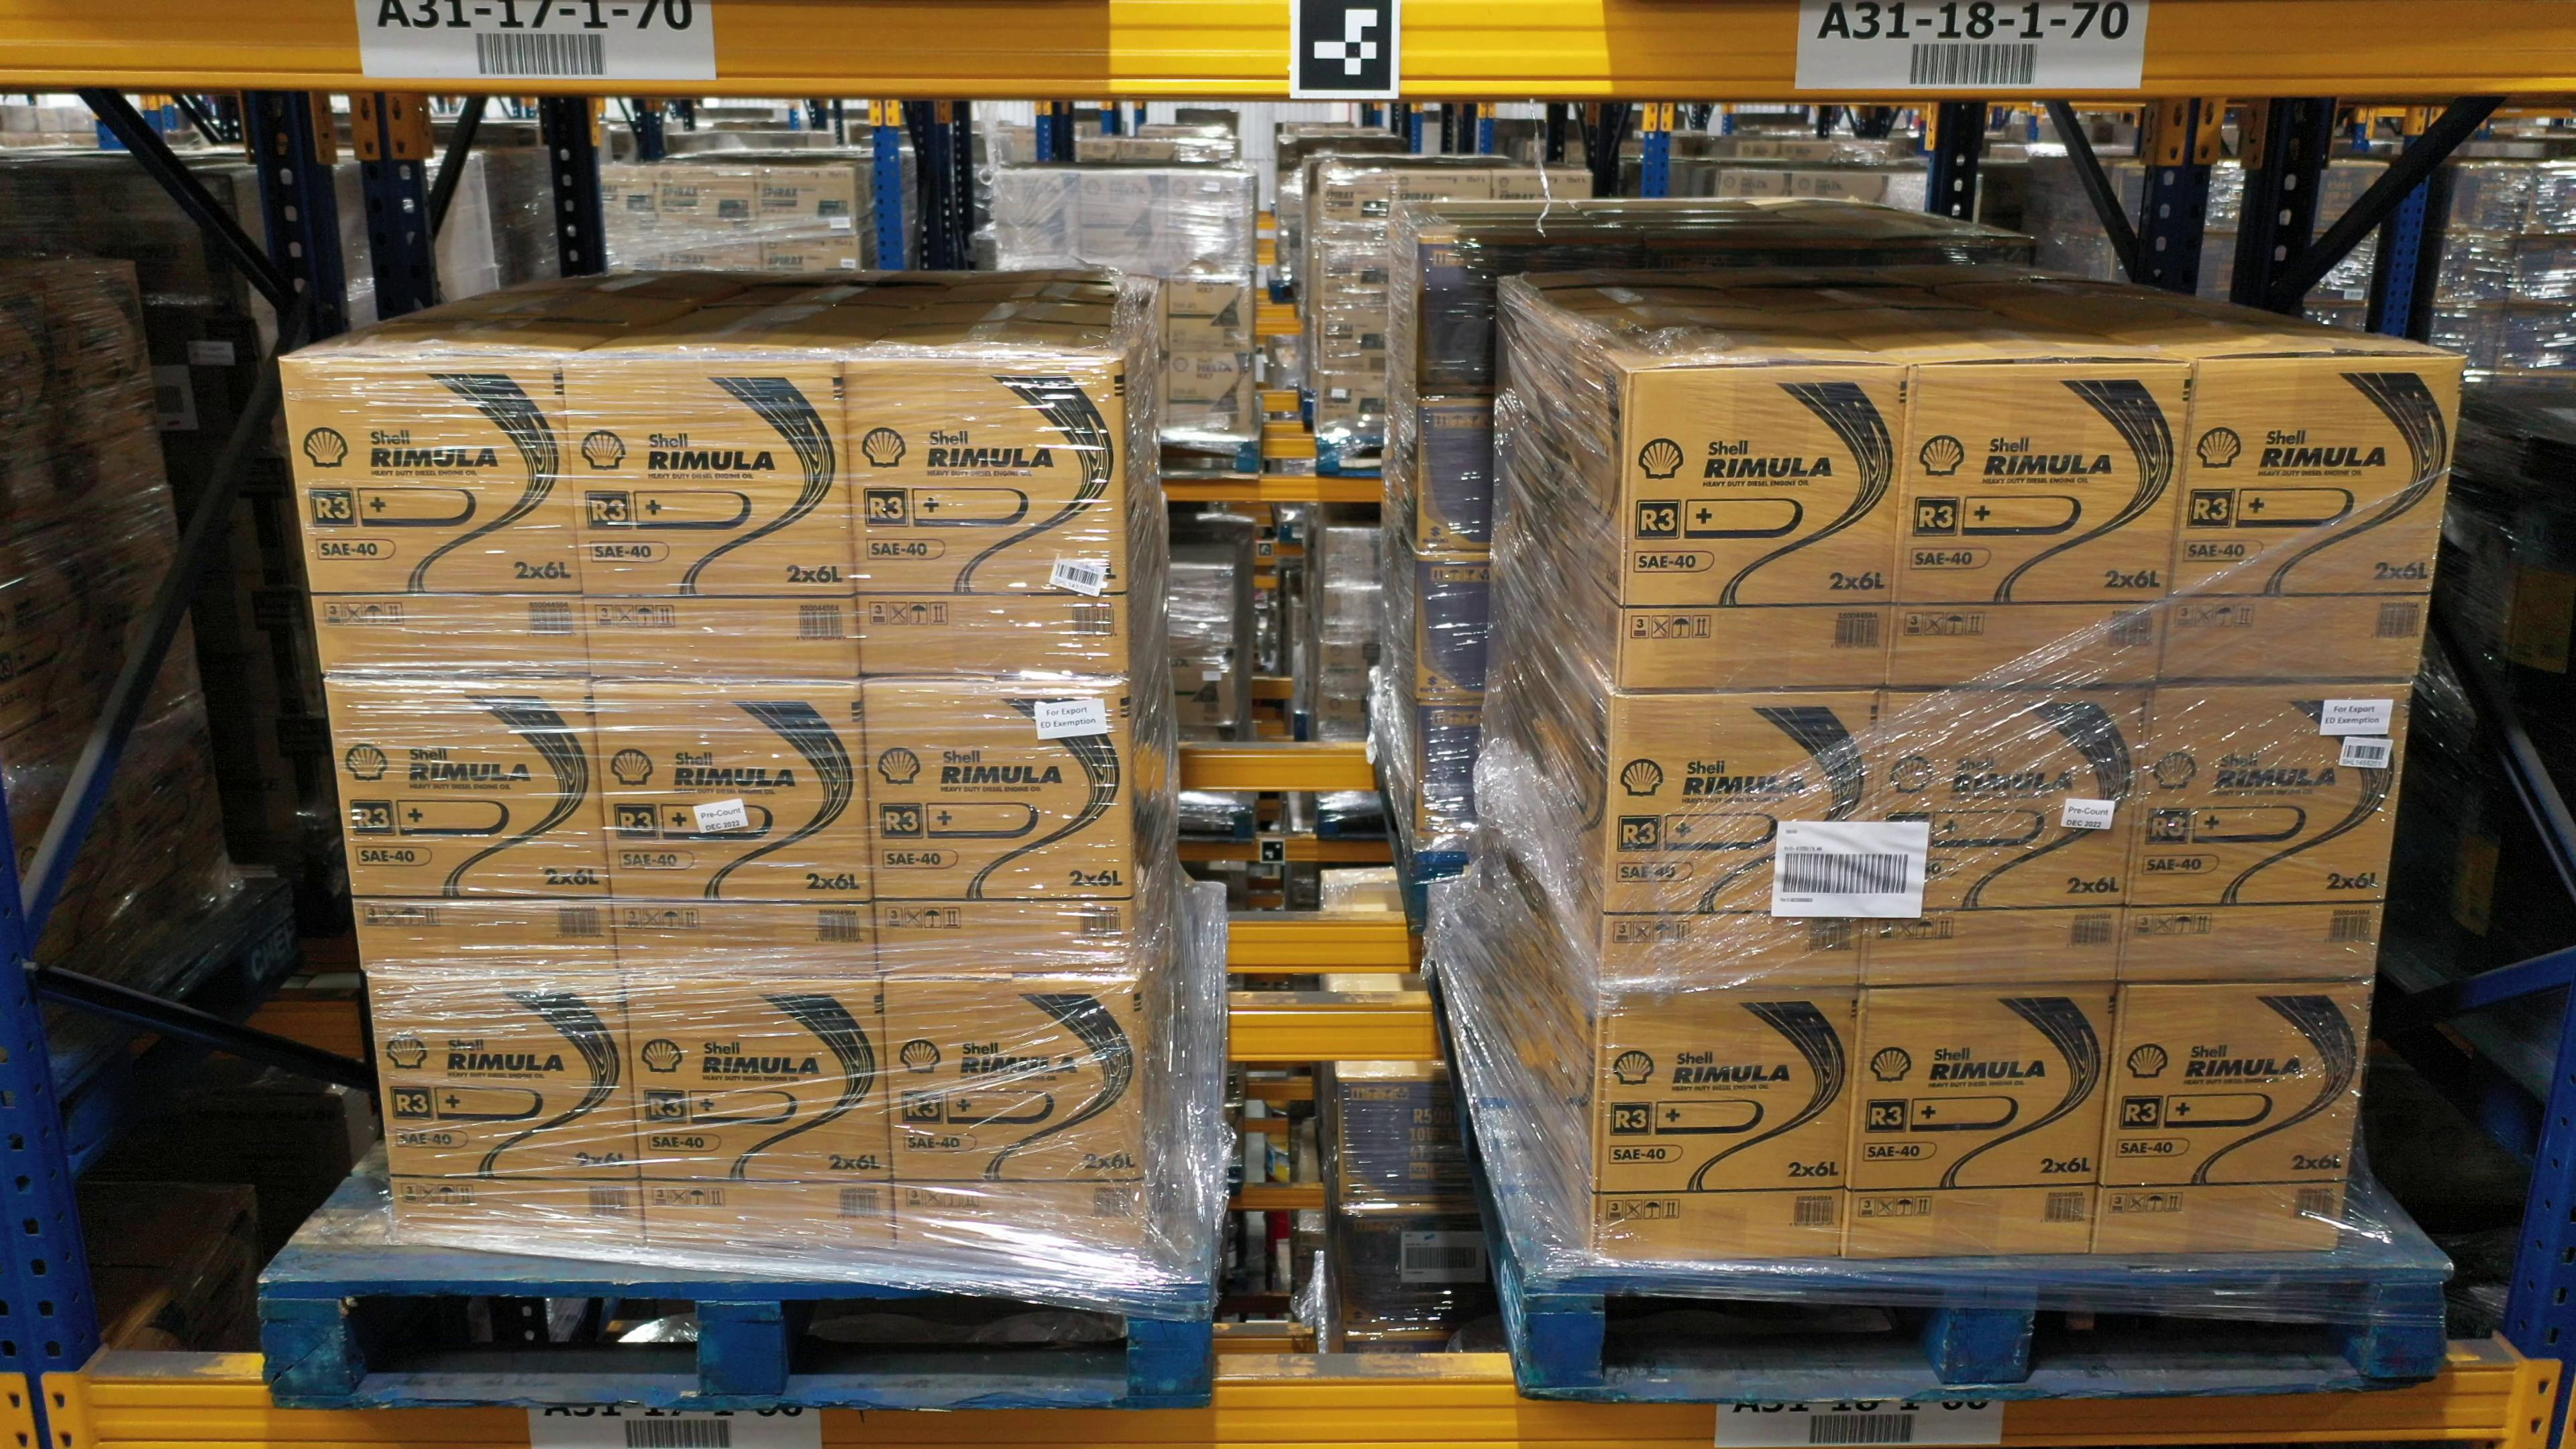-: (1882, 364, 2196, 692), (2153, 359, 2466, 681), (278, 359, 591, 681), (1615, 366, 1913, 694), (563, 357, 855, 679), (842, 357, 1127, 681), (324, 676, 625, 982), (2118, 681, 2413, 982), (1863, 681, 2151, 989), (1596, 692, 1884, 998), (591, 679, 879, 980), (863, 676, 1136, 975), (2088, 975, 2374, 1256), (1591, 985, 1863, 1265), (370, 977, 646, 1251), (1842, 984, 2120, 1256), (876, 977, 1143, 1254), (626, 982, 897, 1247)
